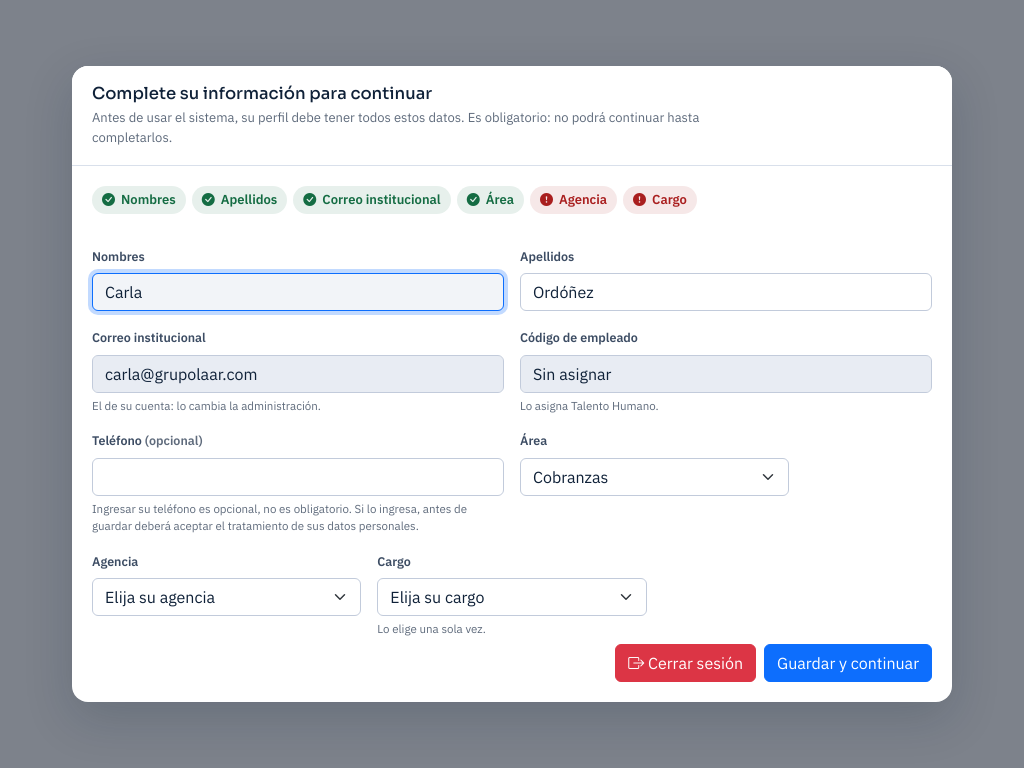
Perfil obligatorio al entrar › el teléfono es opcional: sin él se continúa, y si se escribe pide la autorización
The image size is (1024, 768).
Check: the text "es opcional, no es obligatorio" is shown, box [92,501,467,533]
Type "0994182273" into the field labelled "Teléfono (opcional)" at coordinates (298, 477), box [92,458,504,496]
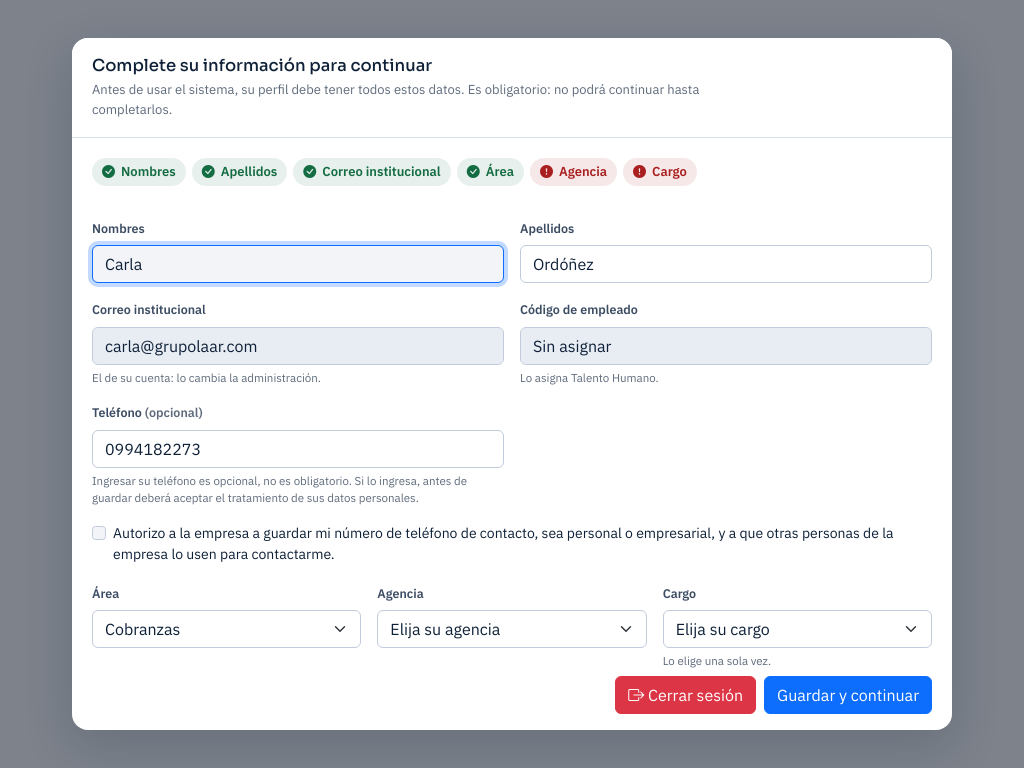
Check: the checkbox named "personal o empresarial" is not checked, box [92,526,106,540]
// Si lo borra, la autorización deja de pedirse.
Clear the field labelled "Teléfono (opcional)" at coordinates (298, 449), box [92,430,504,468]
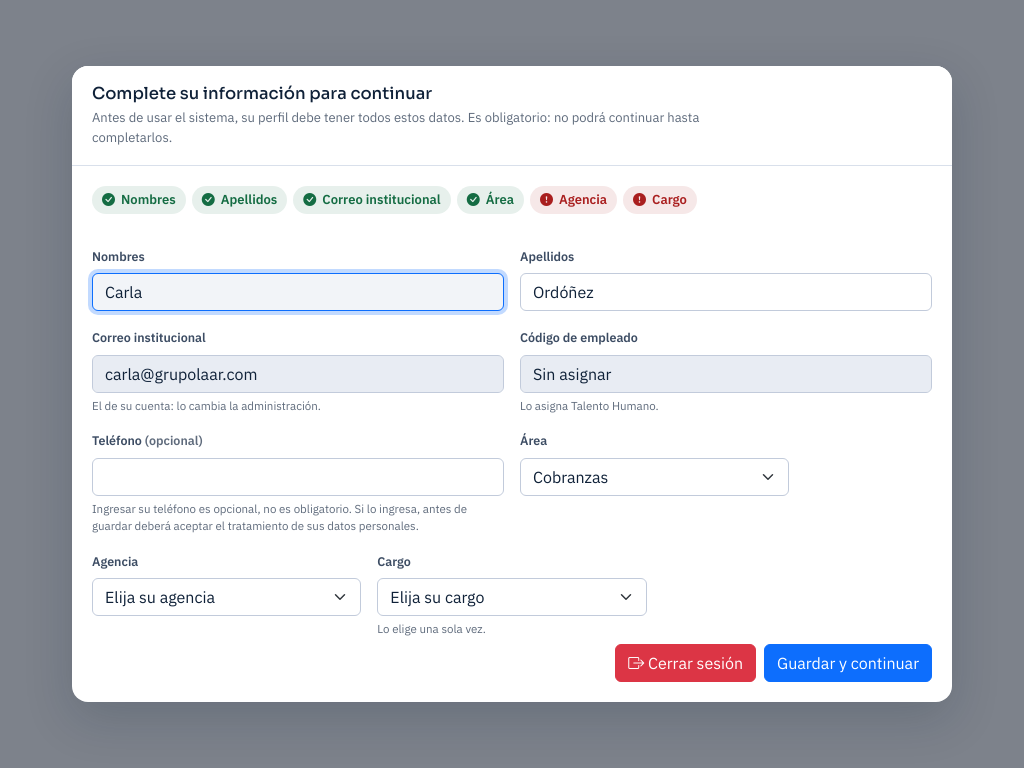
Check: the label labelled "personal o empresarial" is gone
